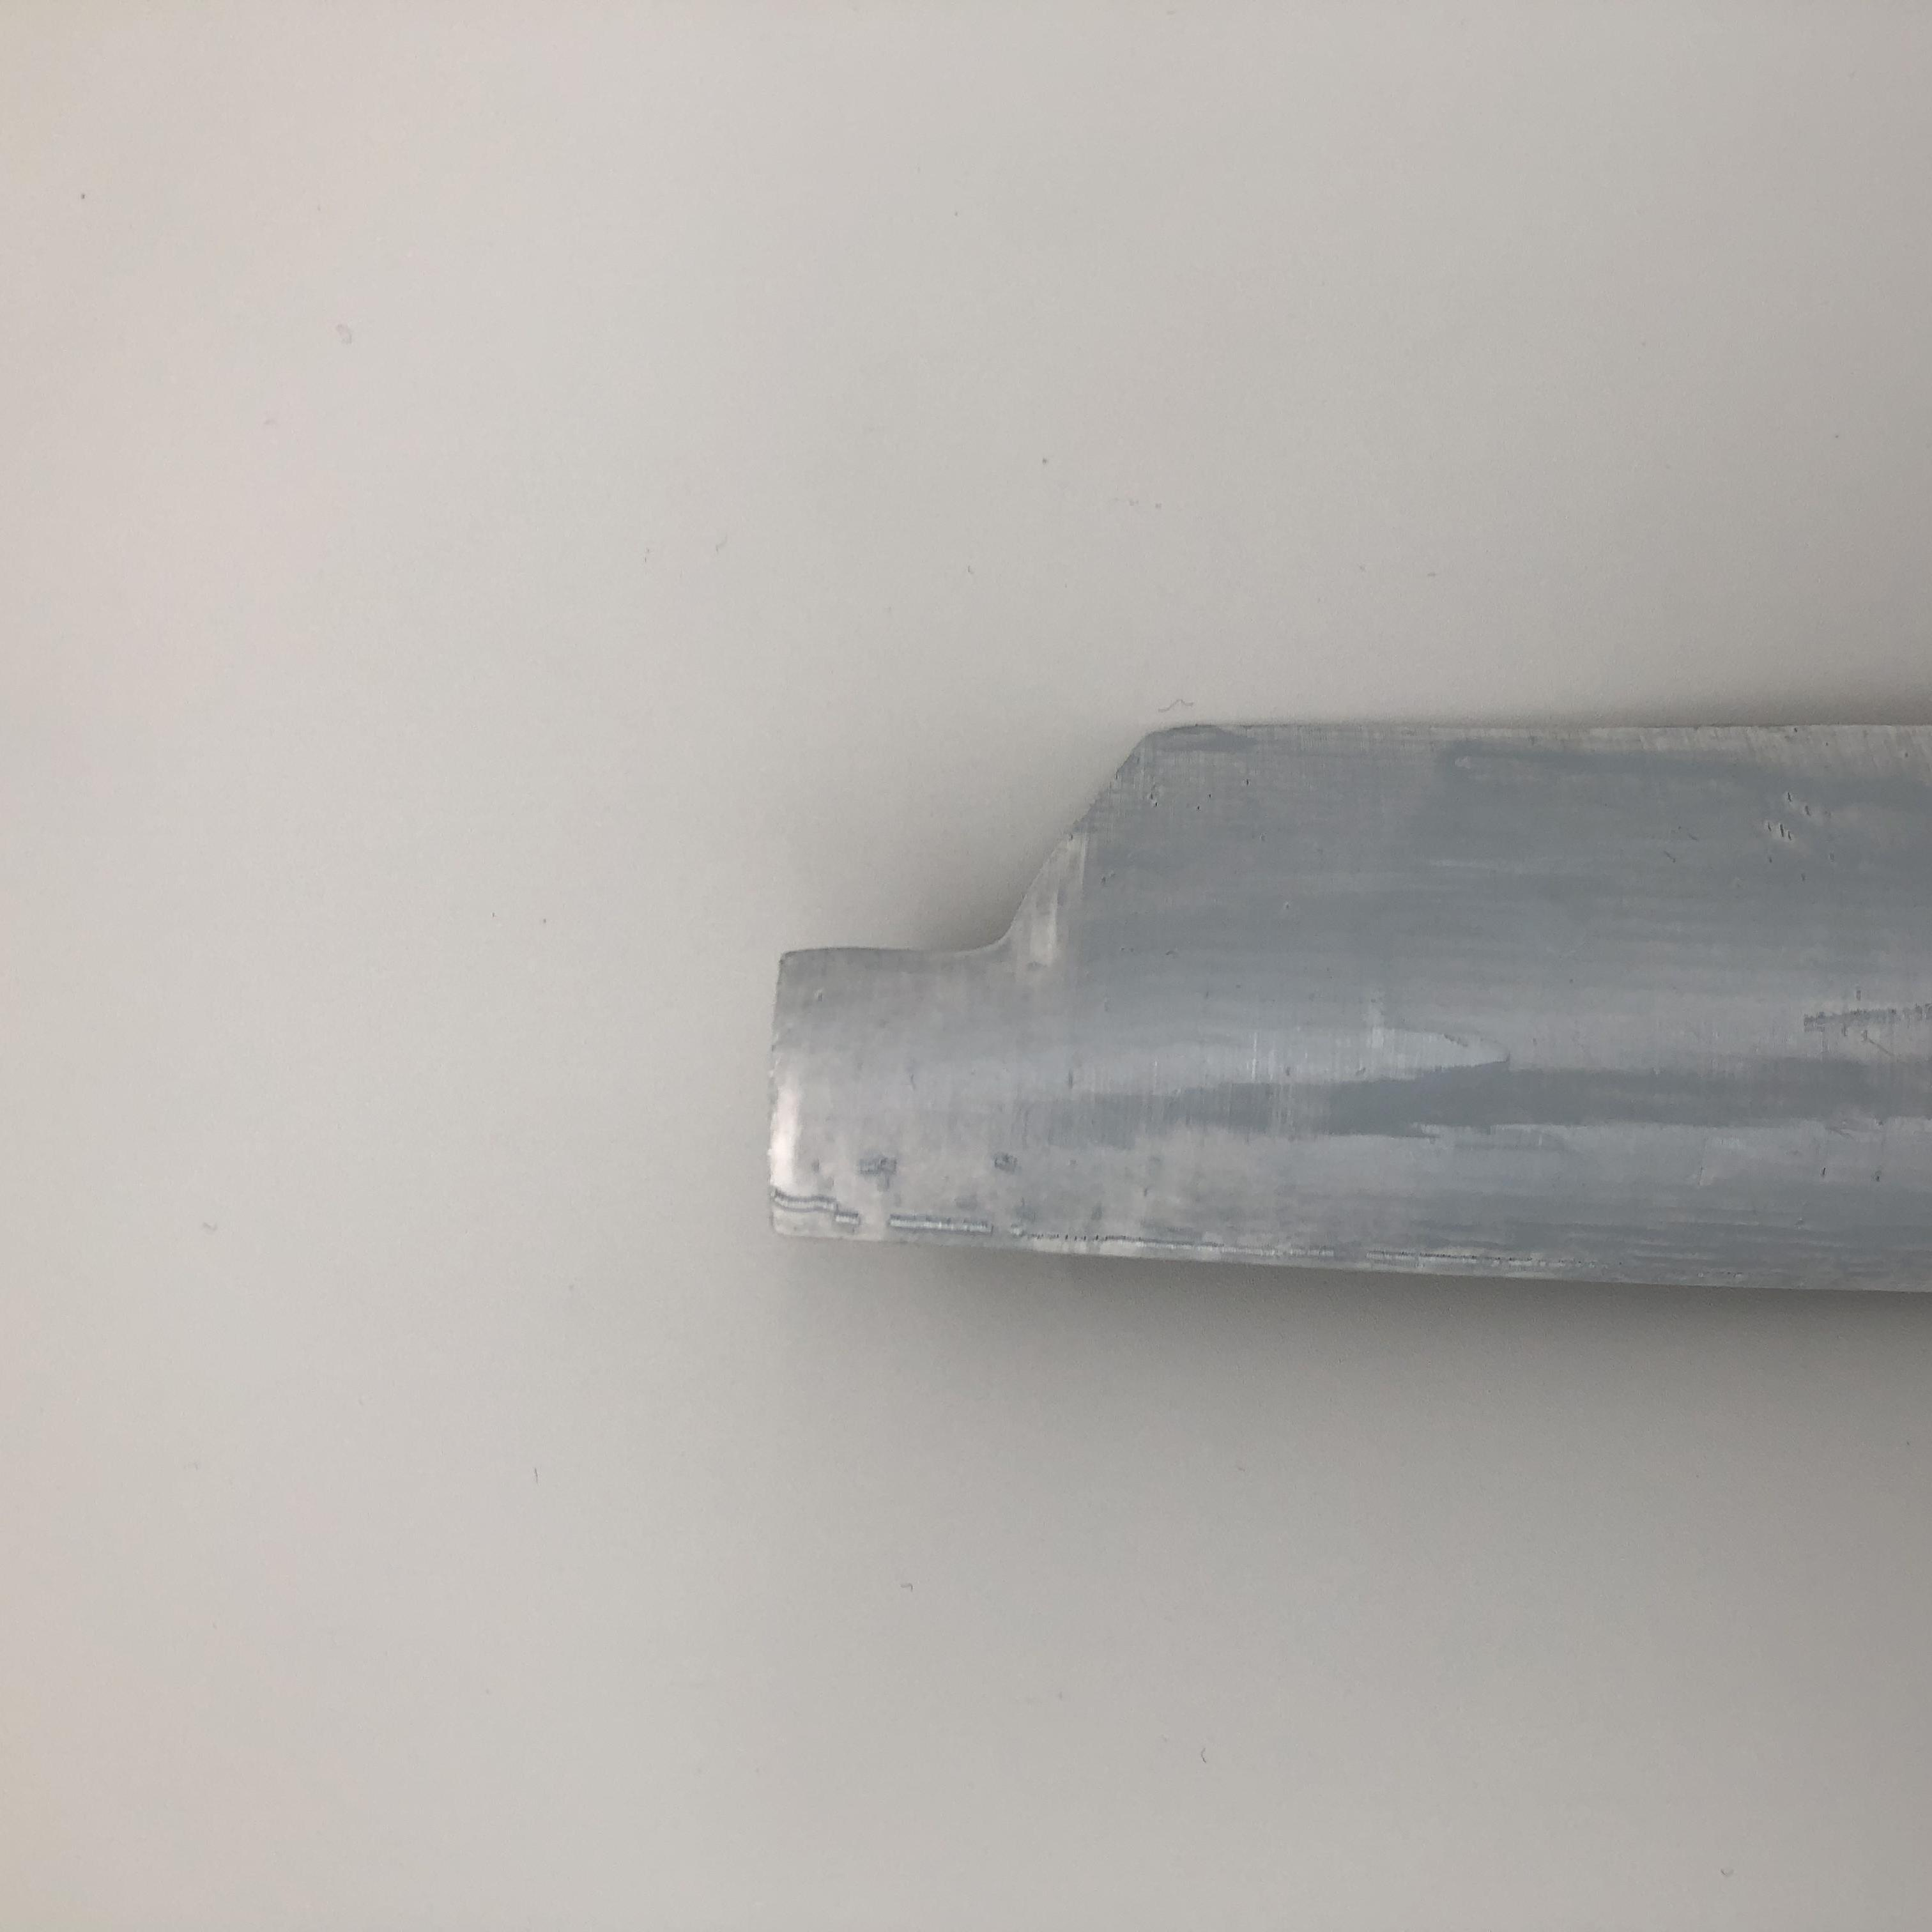fracture: (789, 745, 1198, 971)
